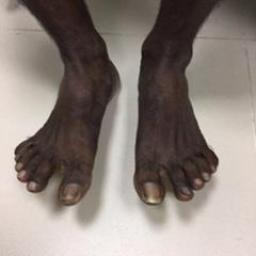Front View -Both Feet-: (5, 20, 223, 226)
